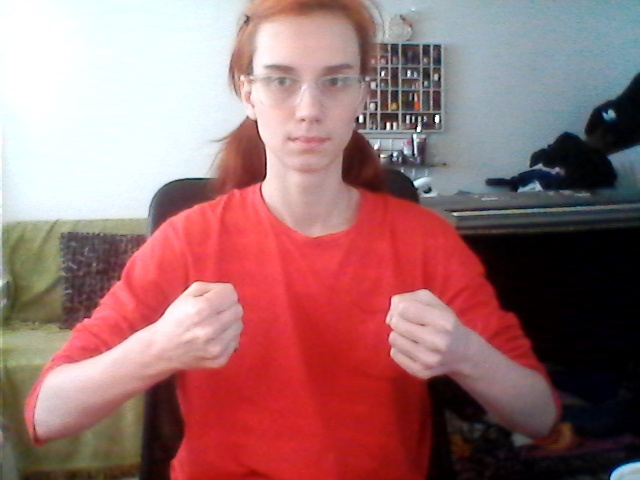auto: (152, 263, 476, 400)
